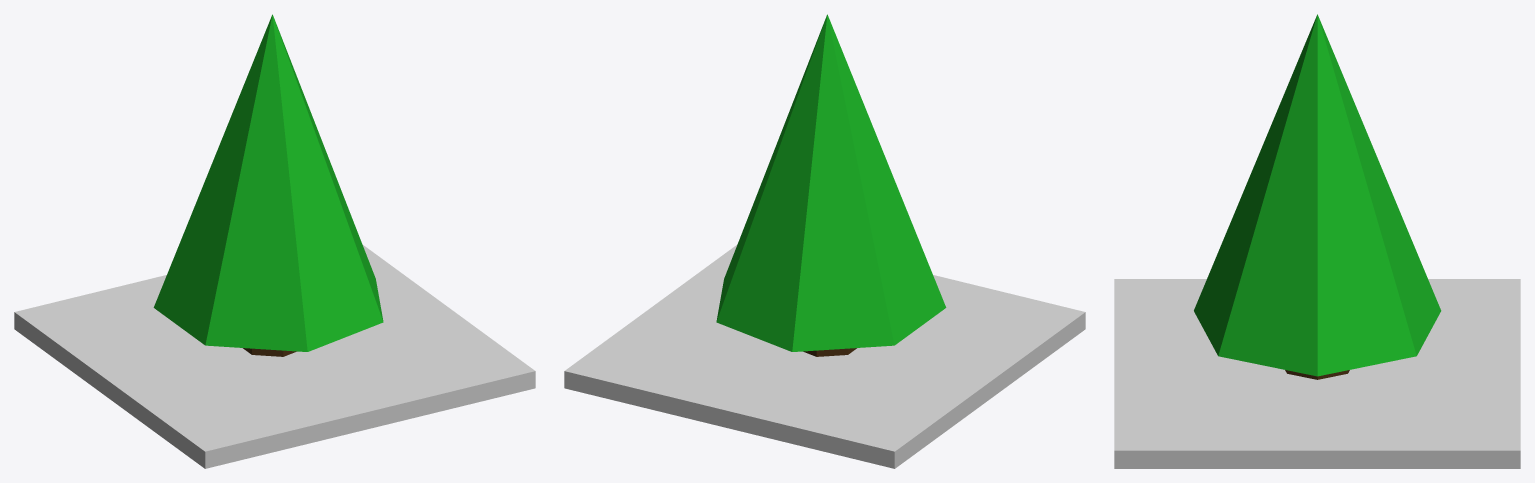
The model's file is wood10.FBX.
The picture shows the model from 3 angles, left to right: view 1: azimuth 30°, elevation 25°; view 2: azimuth 150°, elevation 25°; view 3: azimuth 270°, elevation 25°; orthographic projection. The views are drawn at different scales.
Visible parts, largest first — view 1: Box007, Cone008; view 2: Box007, Cone008; view 3: Box007, Cone008.
Part boxes in pixels (x1,y1,x2,y2): Box007: (14, 244, 535, 468); Cone008: (153, 14, 383, 356); Box007: (564, 245, 1085, 468); Cone008: (716, 14, 946, 356); Box007: (1114, 279, 1520, 468); Cone008: (1194, 14, 1441, 379).
Bounding box in the file's own units: 1 × 0.999 × 1.
